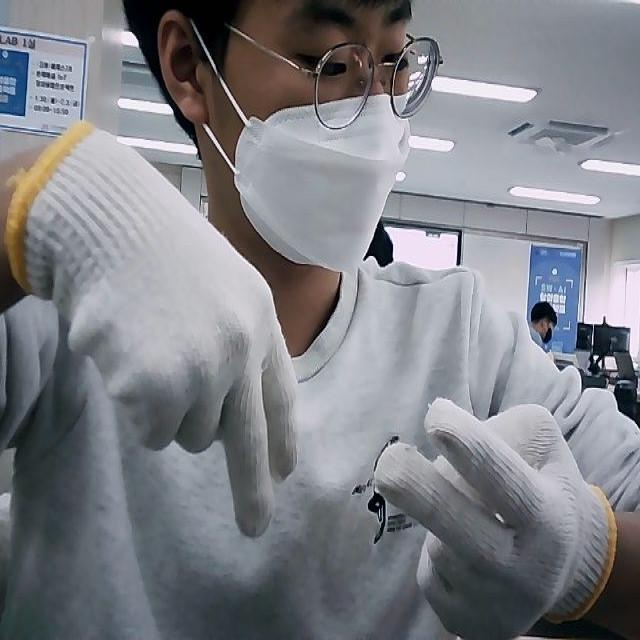Guantes: (5, 122, 302, 537), (377, 396, 618, 636)
